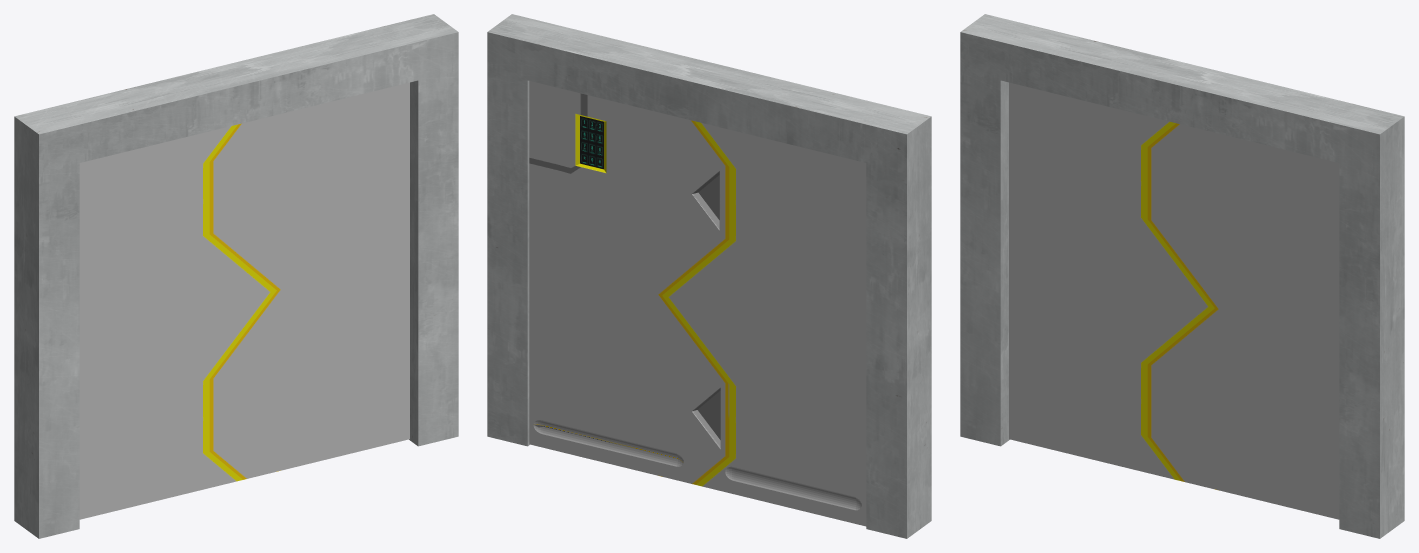
Rendered from DoorSmall.fbx.
3 renders of one model, left to right at view 1: azimuth 30°, elevation 25°; view 2: azimuth 150°, elevation 25°; view 3: azimuth 330°, elevation 25°, orthographic.
Visible parts, largest first — view 1: arch, door.L, door.R; view 2: arch, door.L, door.R; view 3: arch, door.L, door.R.
Part boxes in pixels (x1=…): arch: x1=14, y1=14, x2=458, y2=538; door.L: x1=209, y1=82, x2=409, y2=479; door.R: x1=79, y1=124, x2=276, y2=519; arch: x1=487, y1=14, x2=931, y2=538; door.L: x1=529, y1=81, x2=729, y2=484; door.R: x1=662, y1=121, x2=866, y2=526; arch: x1=960, y1=14, x2=1404, y2=538; door.L: x1=1147, y1=123, x2=1339, y2=519; door.R: x1=1009, y1=82, x2=1214, y2=480.
Size of the model in its own units: 290 by 267 by 29.6.
4 materials, 4 textured.
